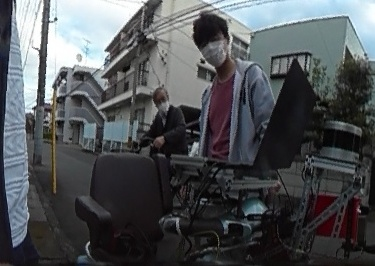person: (187, 15, 274, 162), (142, 89, 190, 153)
